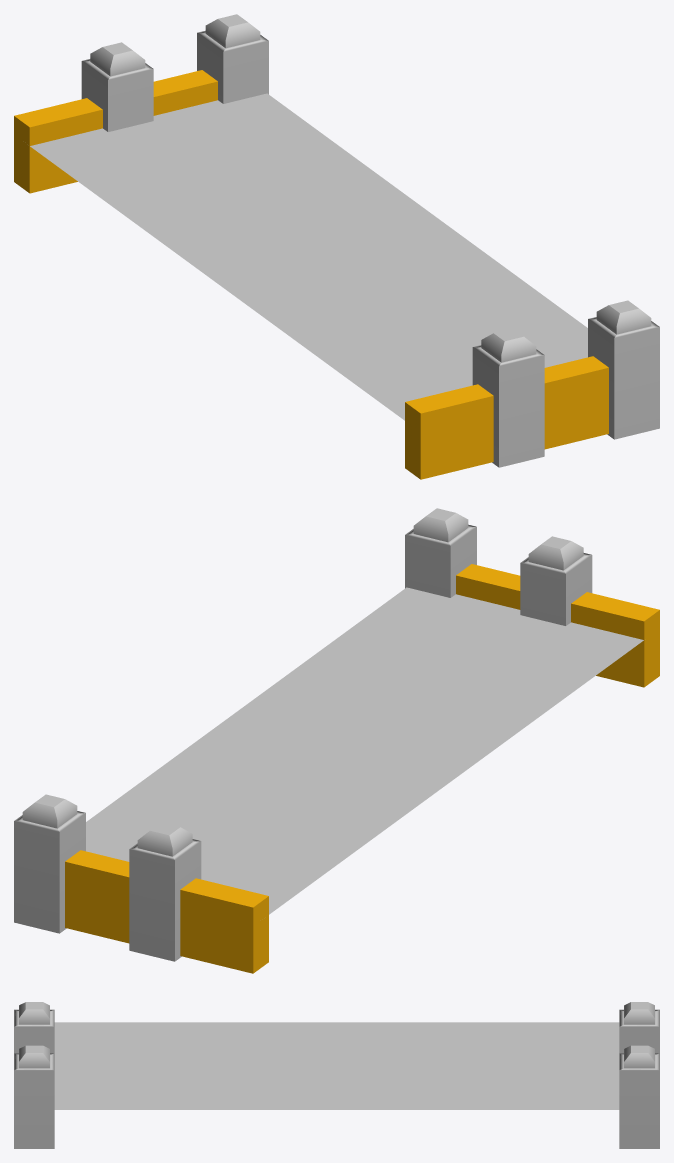
Rendered from bridge.fbx.
The picture shows the model from 3 angles, top to bottom: view 1: azimuth 30°, elevation 25°; view 2: azimuth 150°, elevation 25°; view 3: azimuth 270°, elevation 25°; orthographic projection. The views are drawn at different scales.
Visible parts, largest first — view 1: pCube1, pCube10, pCube2, pCube11, pCube3, pCube13, pCube12, pCube14, pCube15; view 2: pCube1, pCube13, pCube12, pCube14, pCube15, pCube10, pCube2, pCube11, pCube3; view 3: pCube1, pCube2, pCube12, pCube10, pCube13.
Boxes of the visible parts, left/top/right/bottom form: pCube1: left=30, top=93, right=587, bottom=420; pCube10: left=472, top=328, right=544, bottom=467; pCube2: left=588, top=300, right=659, bottom=439; pCube11: left=405, top=384, right=493, bottom=479; pCube3: left=544, top=356, right=608, bottom=449; pCube13: left=81, top=42, right=153, bottom=131; pCube12: left=197, top=14, right=268, bottom=103; pCube14: left=14, top=98, right=102, bottom=193; pCube15: left=153, top=70, right=217, bottom=115; pCube1: left=86, top=587, right=643, bottom=914; pCube13: left=129, top=822, right=201, bottom=961; pCube12: left=14, top=794, right=85, bottom=933; pCube14: left=180, top=878, right=268, bottom=973; pCube15: left=65, top=850, right=129, bottom=943; pCube10: left=520, top=536, right=592, bottom=625; pCube2: left=405, top=508, right=476, bottom=597; pCube11: left=571, top=592, right=659, bottom=687; pCube3: left=456, top=564, right=520, bottom=609; pCube1: left=54, top=1022, right=619, bottom=1109; pCube2: left=14, top=1045, right=54, bottom=1148; pCube12: left=619, top=1045, right=659, bottom=1148; pCube10: left=14, top=1002, right=54, bottom=1052; pCube13: left=619, top=1002, right=659, bottom=1052.
Size of the model in its own units: 5.12 by 2.46 by 15.83.
